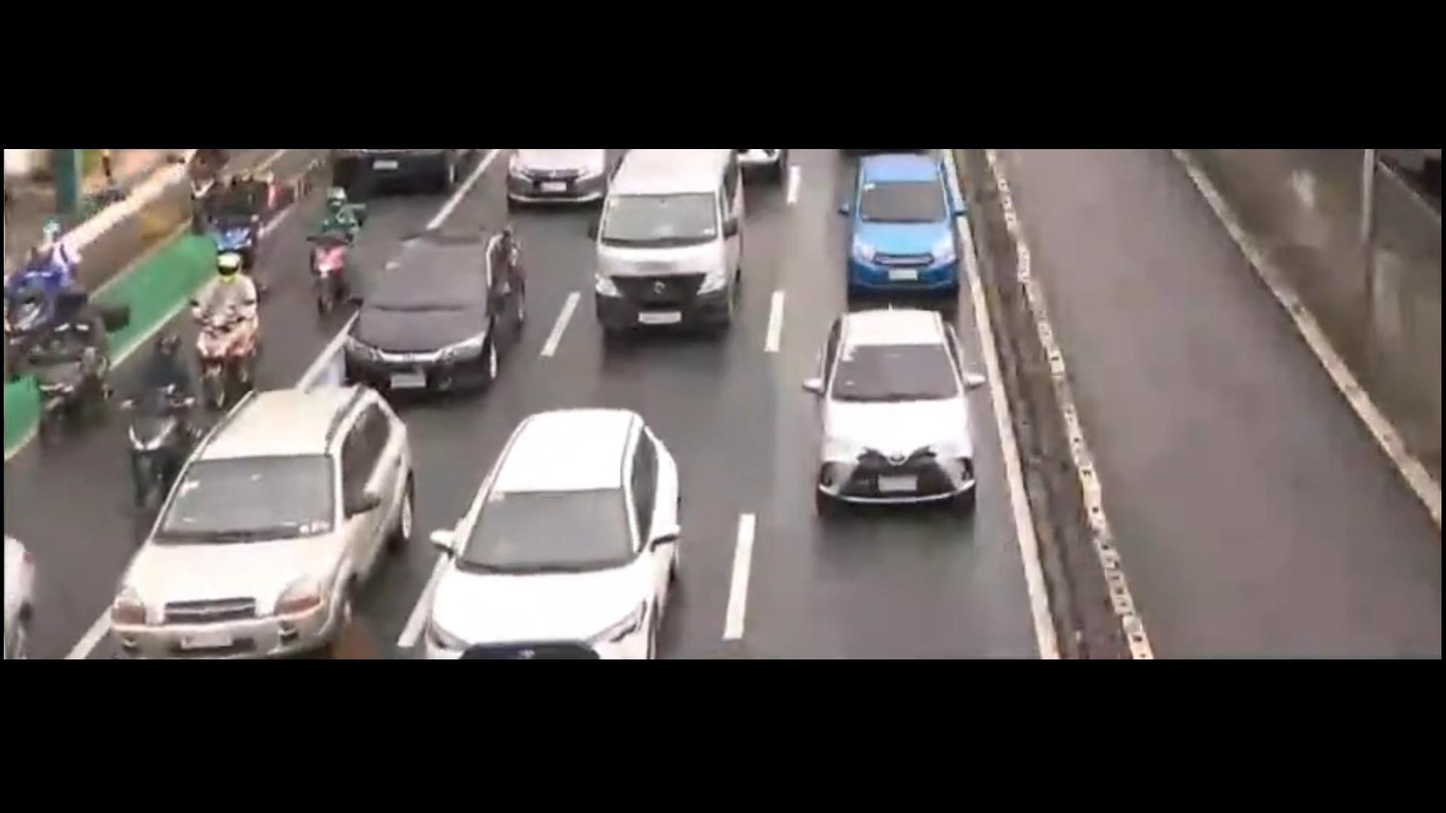Motorcycle: (18, 277, 134, 455), (103, 335, 221, 509), (191, 251, 283, 416), (0, 219, 89, 378), (186, 164, 283, 286), (307, 192, 377, 324)
SUV: (116, 375, 432, 664), (408, 409, 707, 657), (338, 209, 550, 401)
Sedan: (799, 290, 979, 518), (801, 157, 983, 305)
Van: (579, 151, 754, 343)
